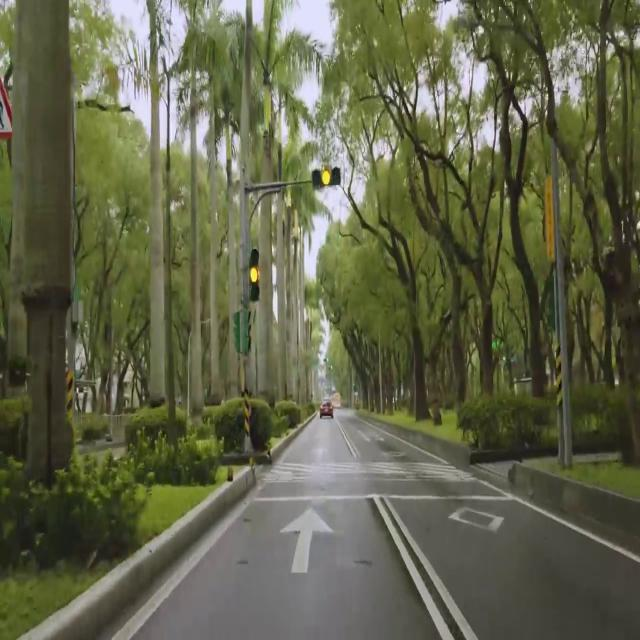yellow light: (312, 166, 342, 190)
